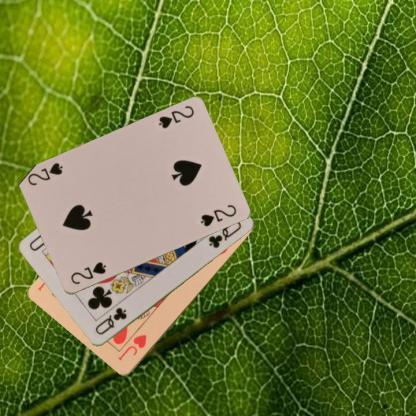2s: (156, 102, 196, 130), (68, 259, 108, 286)
Jh: (115, 332, 148, 362)
Qc: (92, 305, 128, 337)
